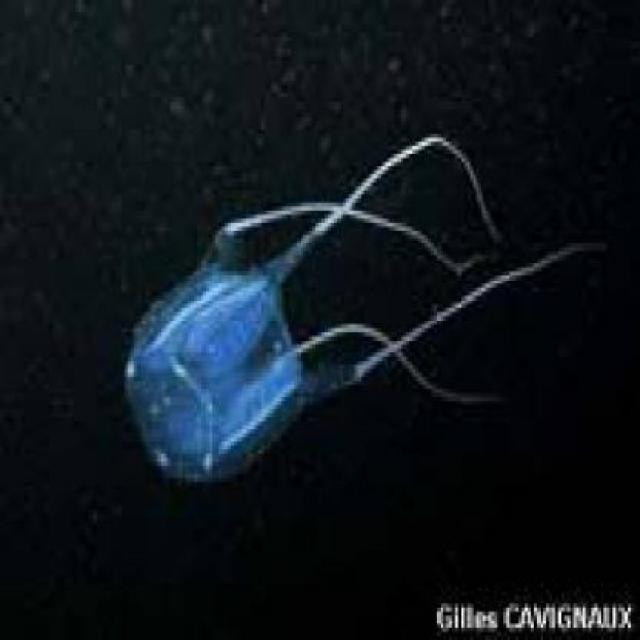Jellyfish: (111, 121, 614, 470)
